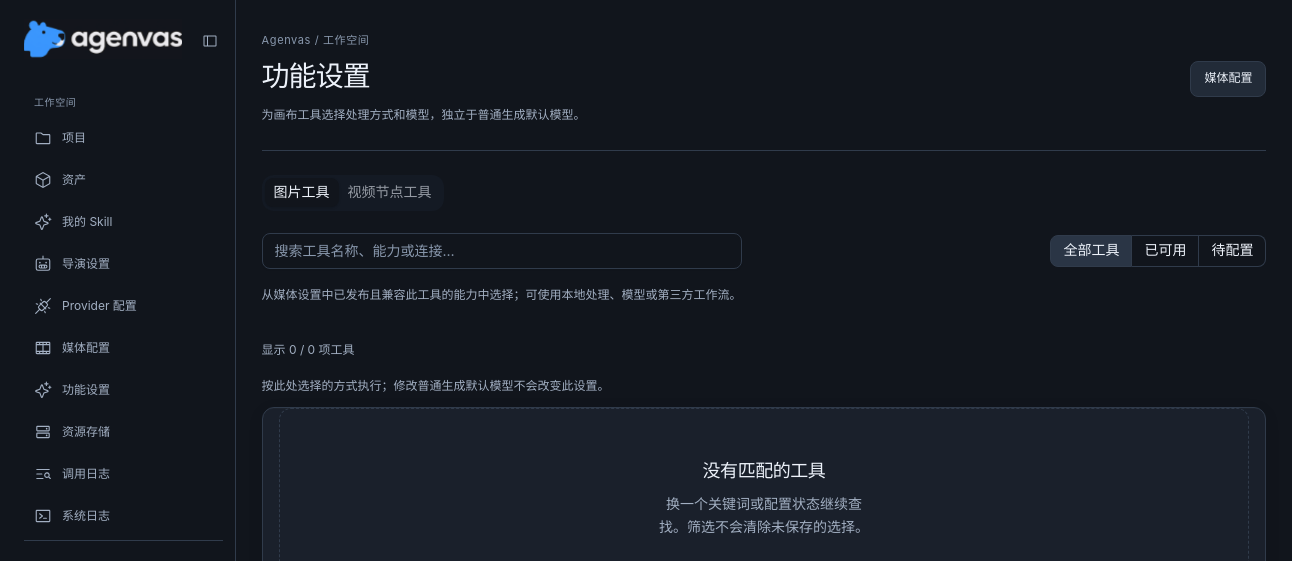
it: MediaFunctionSettingsPage › preserves the selected method after a save failure
Click the tab "视频节点工具": (390, 193) [339,178,441,207]
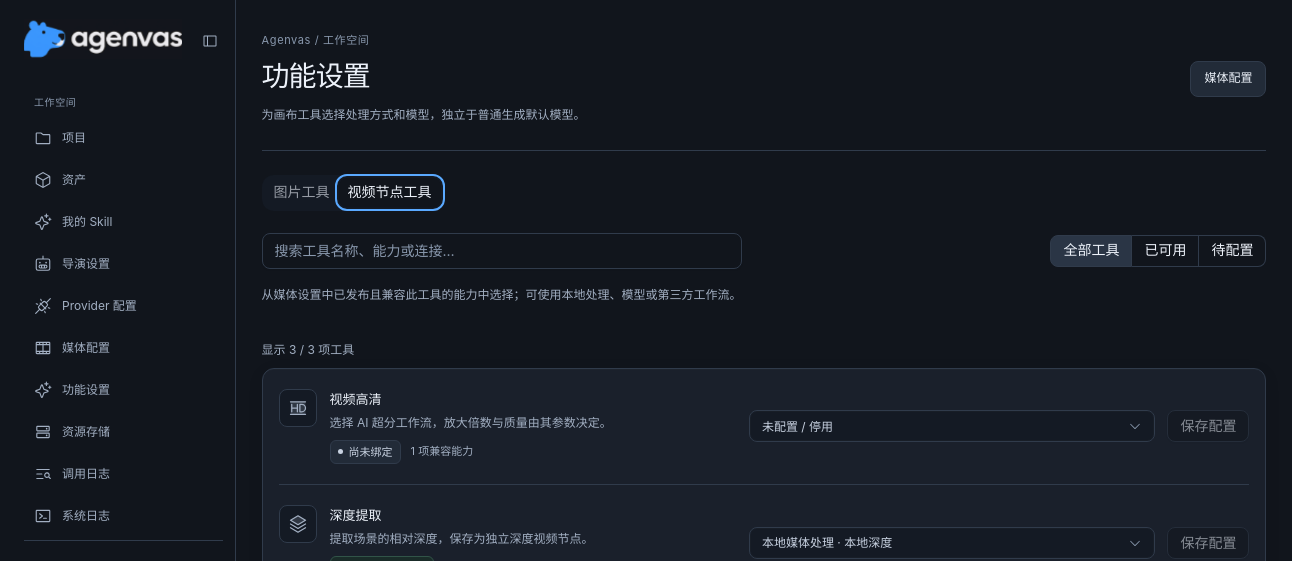
Click the dropdown labelled "未配置 / 停用": (798, 426) [749,410,1155,442]
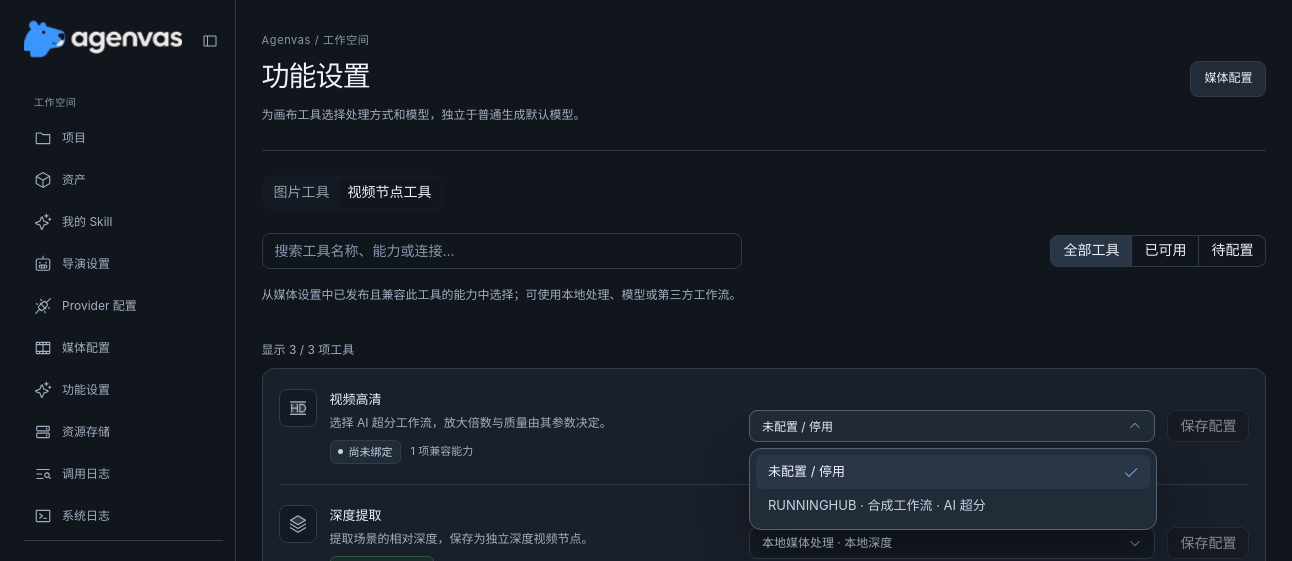
Click the option "RUNNINGHUB · 合成工作流 · AI 超分": (877, 505) [768,497,986,513]
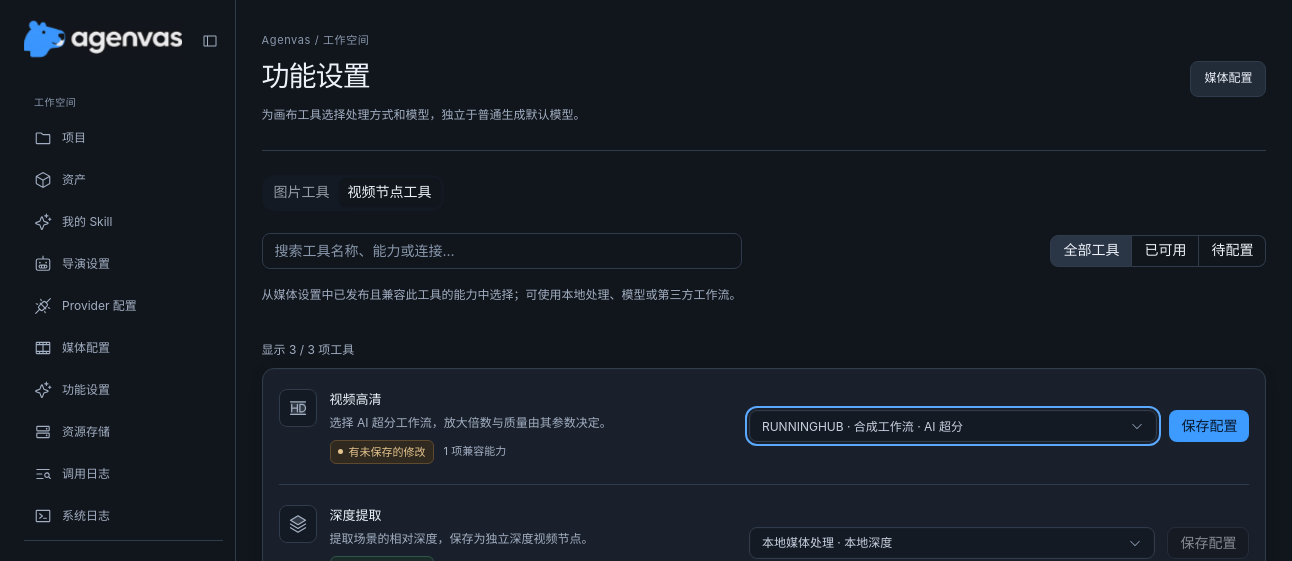
Click the button "保存配置" in the row of "选择 AI 超分工作流，放大倍数与质量由其参数决定。": (1209, 426) [1169,410,1249,442]
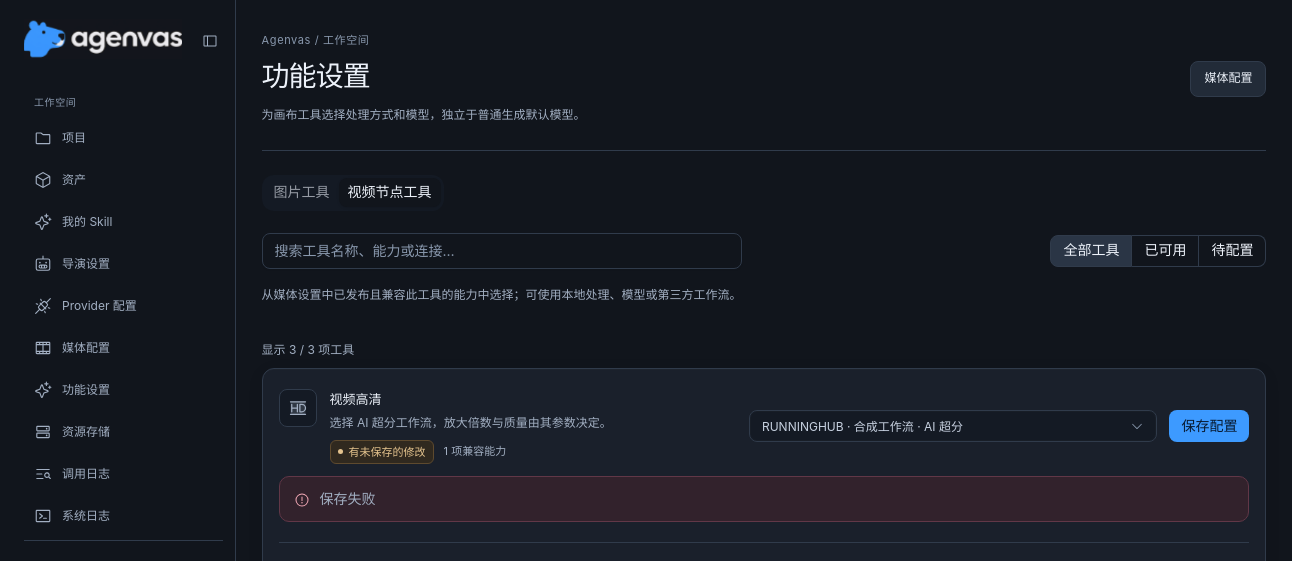
Now the dropdown labelled "RUNNINGHUB · 合成工作流 · AI 超分" is shown, box [749,410,1157,442]
Now the button "保存配置" in the row of "选择 AI 超分工作流，放大倍数与质量由其参数决定。" is enabled, box [1169,410,1249,442]
Now the text "保存失败" is shown, box [320,489,376,509]
